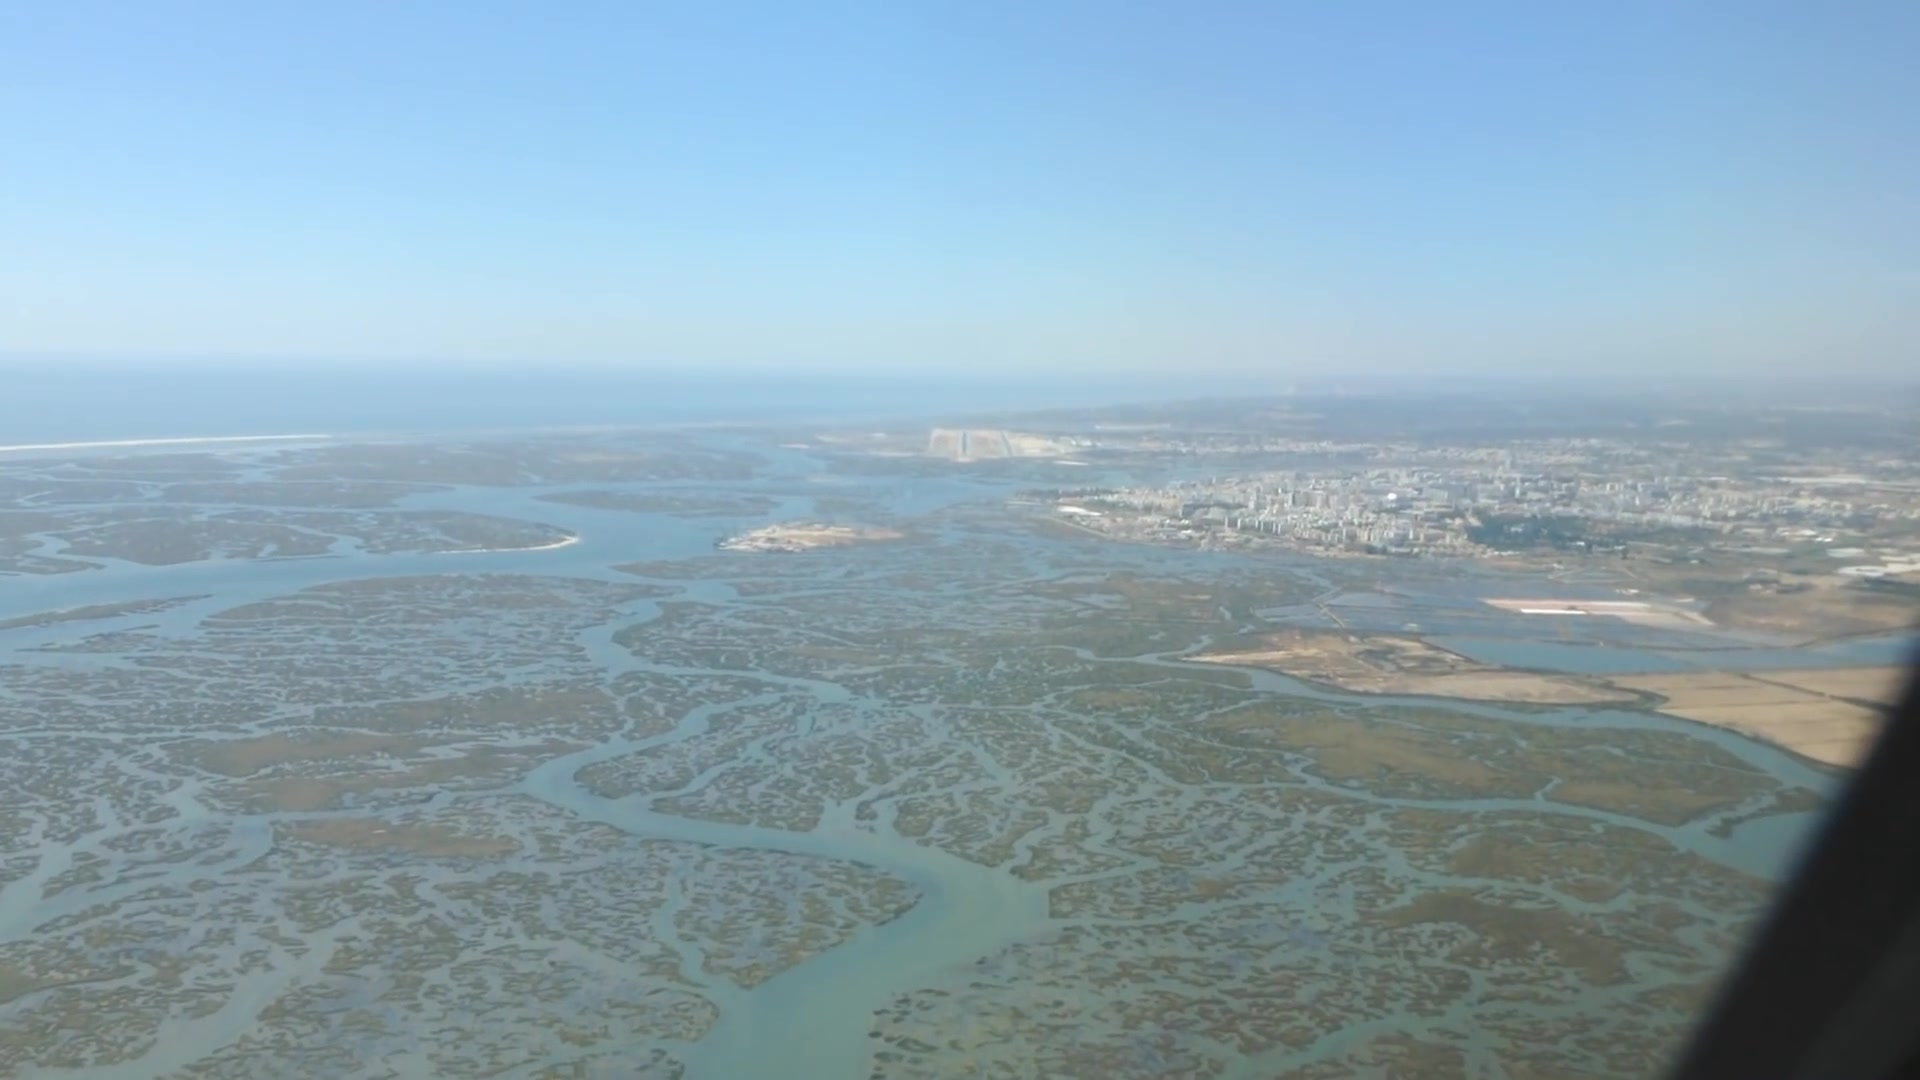runway: (955, 429, 975, 465), (997, 430, 1018, 459)
